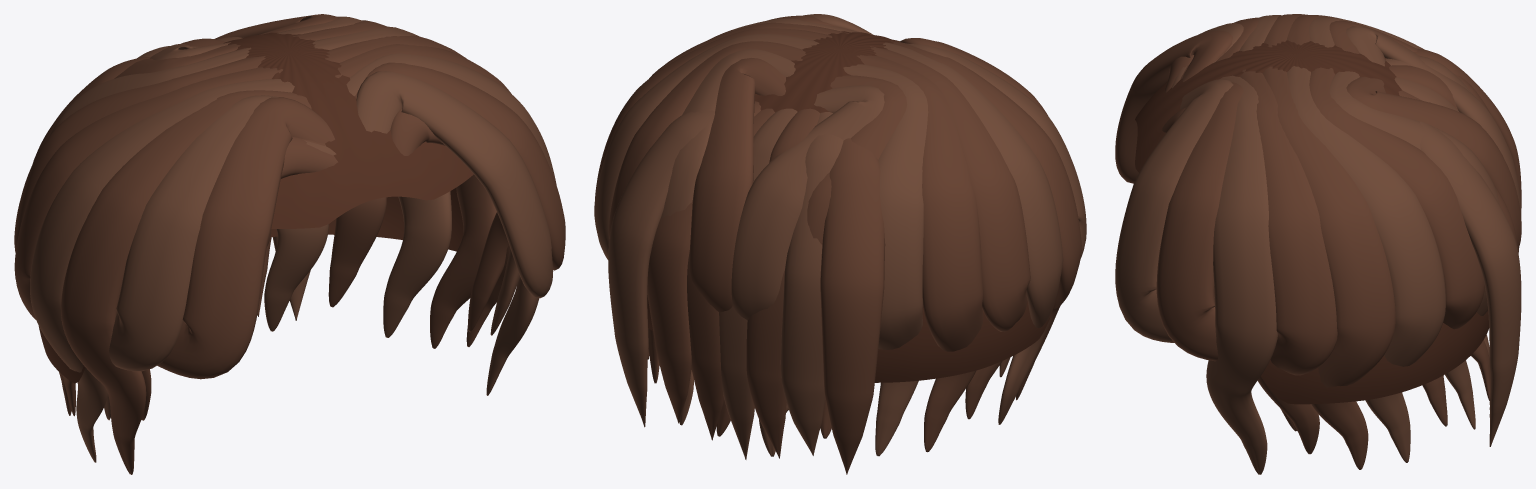
File: Masculine-flow-ears251-hair.glb
The picture shows the model from 3 angles, left to right: view 1: azimuth 30°, elevation 25°; view 2: azimuth 150°, elevation 25°; view 3: azimuth 270°, elevation 25°; orthographic projection. The views are drawn at different scales.
Parts seen in each view (by area): view 1: 226 hair / Hair / main251.001, 226 hair / Hair / accent251.001, 226 hair / Hair / recessed roots251.001; view 2: 226 hair / Hair / main251.001, 226 hair / Hair / accent251.001, 226 hair / Hair / recessed roots251.001; view 3: 226 hair / Hair / main251.001, 226 hair / Hair / accent251.001, 226 hair / Hair / recessed roots251.001.
Boxes of the visible parts, bbox=[...] form: 226 hair / Hair / main251.001: bbox=[14, 14, 565, 474]; 226 hair / Hair / accent251.001: bbox=[30, 16, 556, 462]; 226 hair / Hair / recessed roots251.001: bbox=[38, 32, 473, 383]; 226 hair / Hair / main251.001: bbox=[595, 15, 1081, 474]; 226 hair / Hair / accent251.001: bbox=[594, 14, 1086, 459]; 226 hair / Hair / recessed roots251.001: bbox=[647, 31, 1054, 382]; 226 hair / Hair / main251.001: bbox=[1115, 14, 1521, 469]; 226 hair / Hair / accent251.001: bbox=[1115, 15, 1521, 474]; 226 hair / Hair / recessed roots251.001: bbox=[1135, 40, 1488, 404].
Size of the model in its own units: 1.11 by 0.832 by 0.8725.
